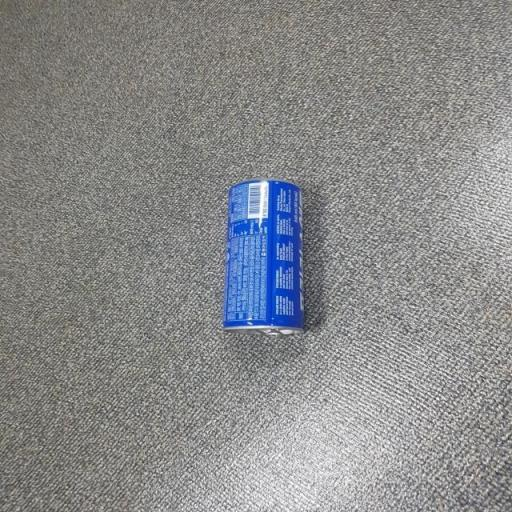metal: (179, 165, 367, 377)
